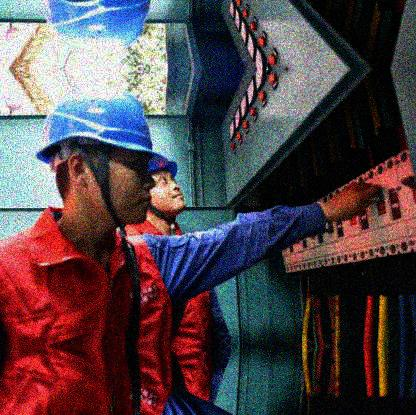helmet: (34, 87, 170, 231), (146, 151, 188, 226)
